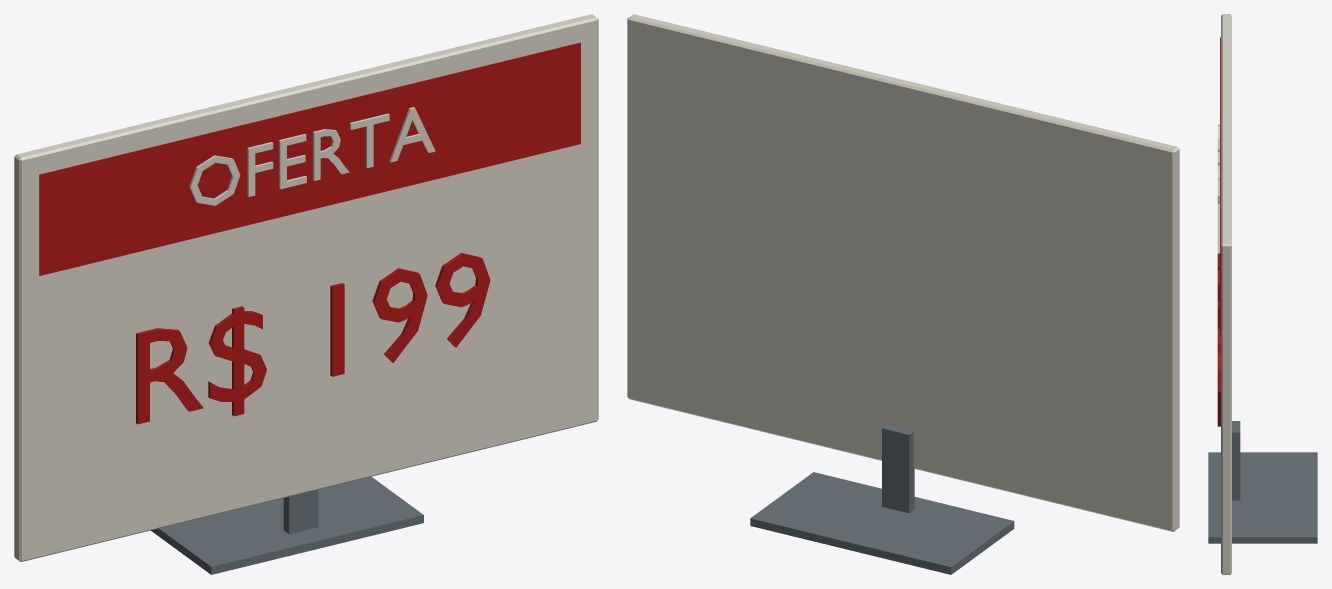
Rendered from PlacaOferta.fbx.
3 renders of one model, left to right at view 1: azimuth 30°, elevation 25°; view 2: azimuth 150°, elevation 25°; view 3: azimuth 270°, elevation 25°, orthographic. The views are drawn at different scales.
Visible parts, largest first — view 1: PlacaOferta; view 2: PlacaOferta; view 3: PlacaOferta.
Boxes of the visible parts, x1,y1,x2,y2 form: PlacaOferta: [14, 14, 598, 574]; PlacaOferta: [627, 14, 1179, 574]; PlacaOferta: [1208, 14, 1317, 574].
Bounding box in the file's own units: 0.6 × 0.45 × 0.12.
